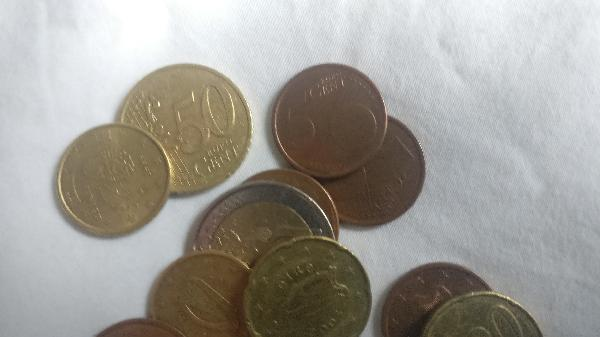Fifty Cent: (114, 63, 262, 192)
Five Cent: (274, 63, 389, 175), (325, 120, 423, 225), (149, 251, 255, 337), (380, 263, 494, 337)
Ten Cent: (52, 124, 174, 240)
Twenty Cent: (246, 236, 371, 337), (422, 292, 536, 337)
Two Euro: (192, 184, 336, 273)
